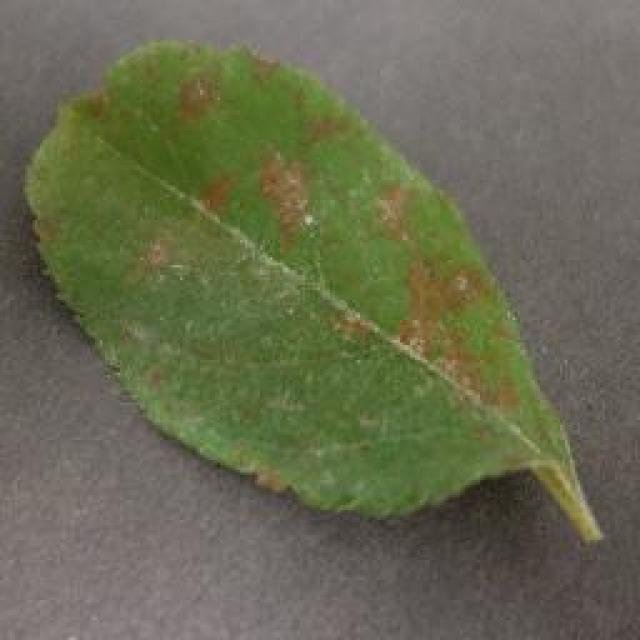apple scab disease: (20, 35, 605, 545)
